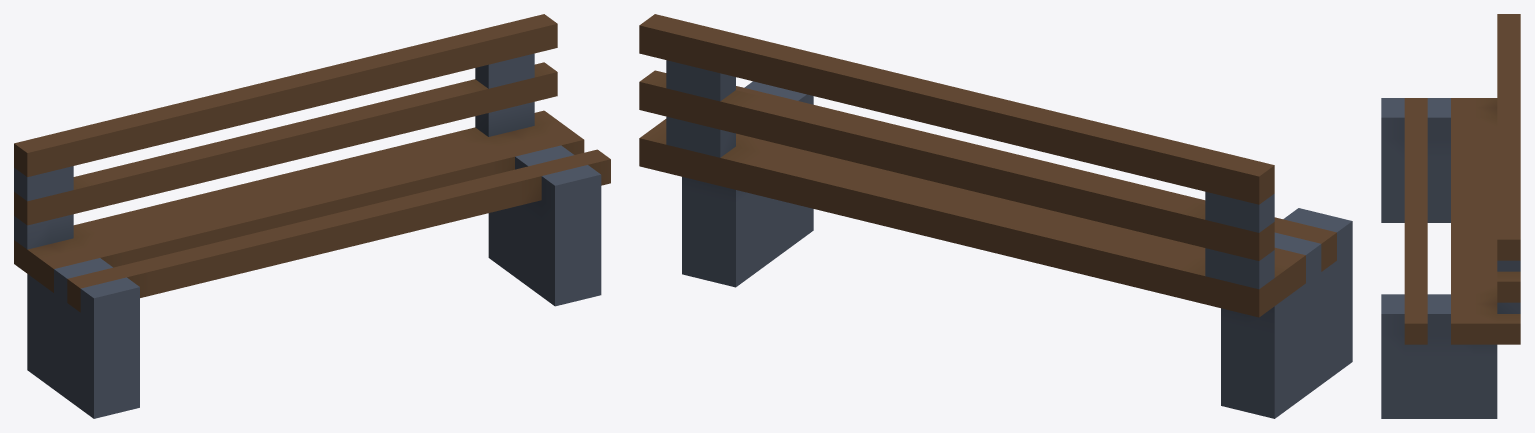
File: bench_steel.glb
The picture shows the model from 3 angles, left to right: view 1: azimuth 30°, elevation 25°; view 2: azimuth 150°, elevation 25°; view 3: azimuth 270°, elevation 25°; orthographic projection. The views are drawn at different scales.
Parts seen in each view (by area): view 1: Model; view 2: Model; view 3: Model.
Boxes of the visible parts, x1,y1,x2,y2 form: Model: (14, 14, 610, 418); Model: (639, 14, 1352, 418); Model: (1381, 14, 1520, 418).
Size of the model in its own units: 2.3 by 0.9 by 0.6.
